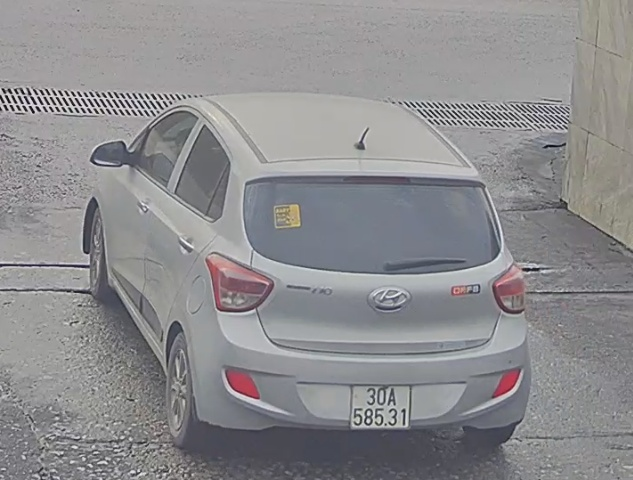vehicle plate: (346, 376, 415, 434)
